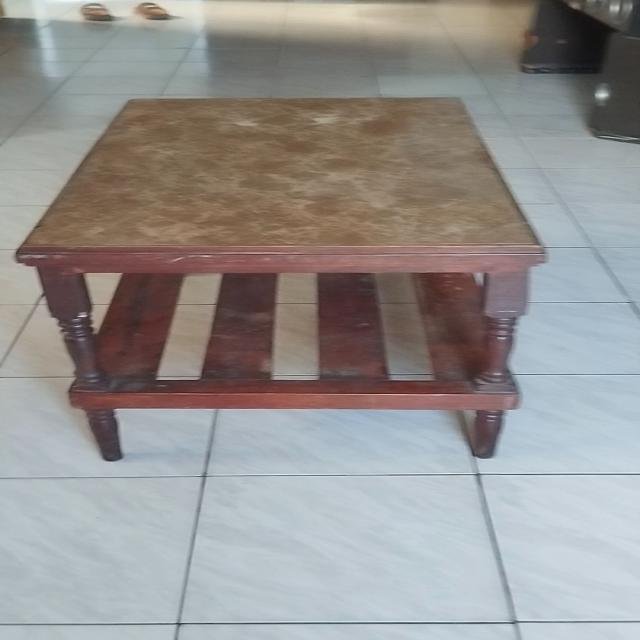table: (14, 94, 555, 472)
